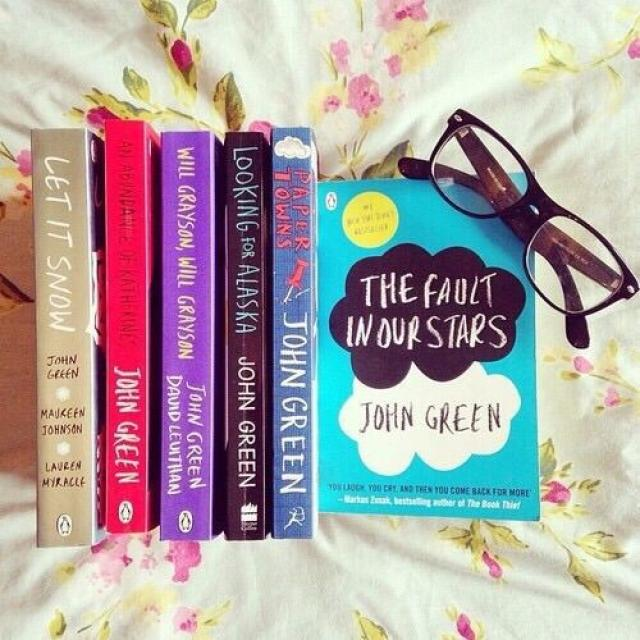book: (32, 130, 95, 545), (161, 132, 212, 540), (273, 127, 315, 538), (107, 120, 148, 532), (225, 133, 265, 541)
